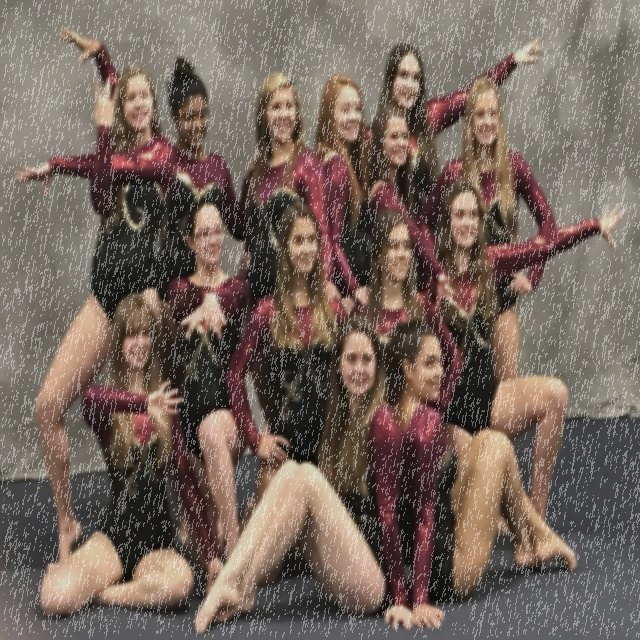pessoa: (12, 63, 177, 574), (188, 310, 420, 640), (416, 176, 628, 524), (34, 285, 235, 619), (383, 316, 579, 628), (222, 200, 370, 592), (60, 25, 261, 304), (412, 71, 558, 382), (358, 32, 544, 214), (166, 192, 252, 567), (236, 69, 341, 314), (344, 208, 464, 418), (366, 101, 460, 316), (312, 72, 370, 308)
